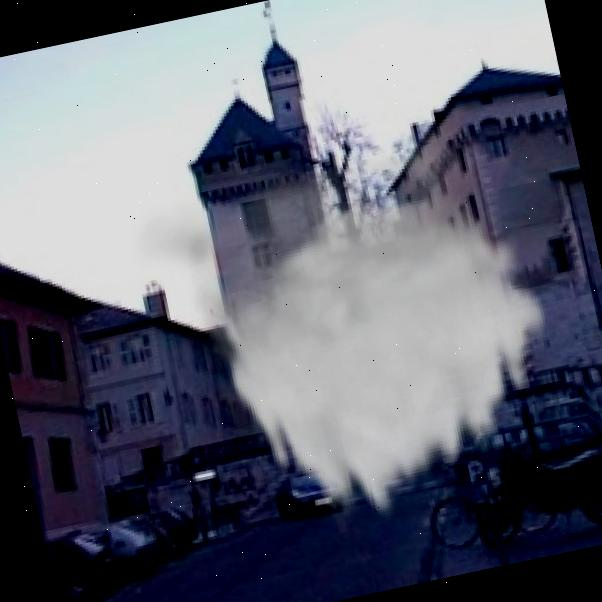smoke: (115, 94, 586, 563)
